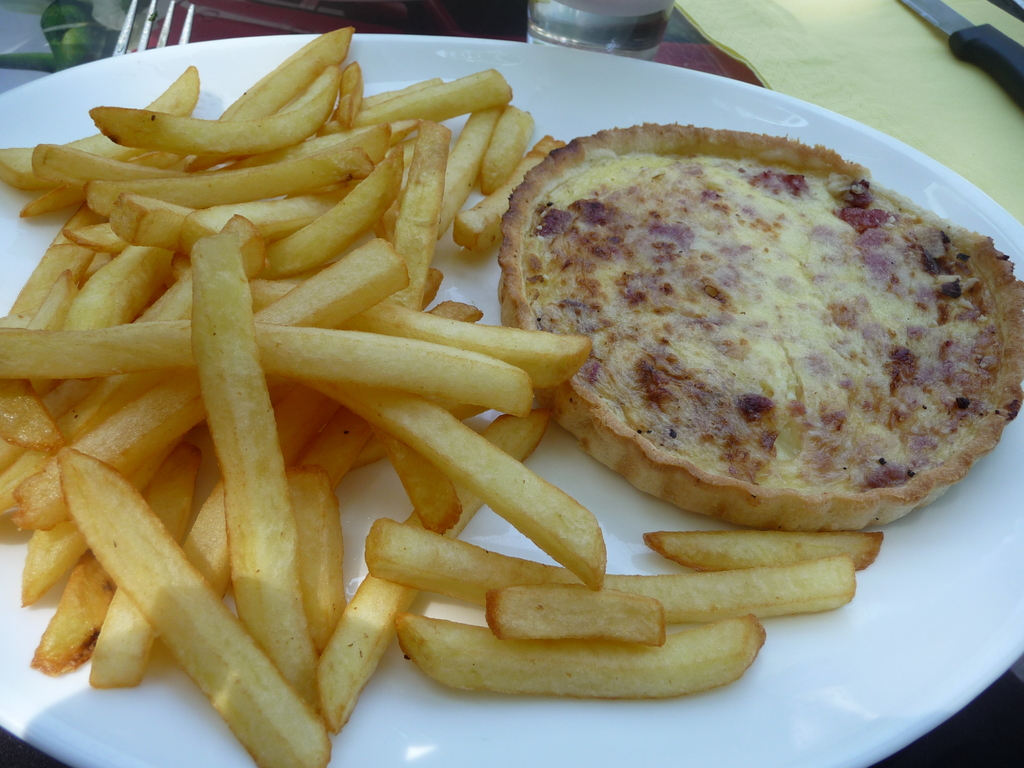French fries: (0, 19, 886, 767)
